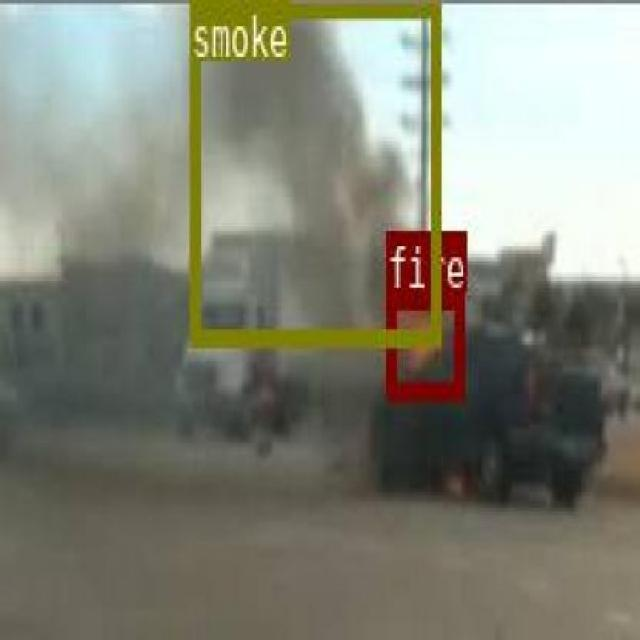Fire: (384, 287, 462, 393)
Smoke: (190, 0, 438, 342)
